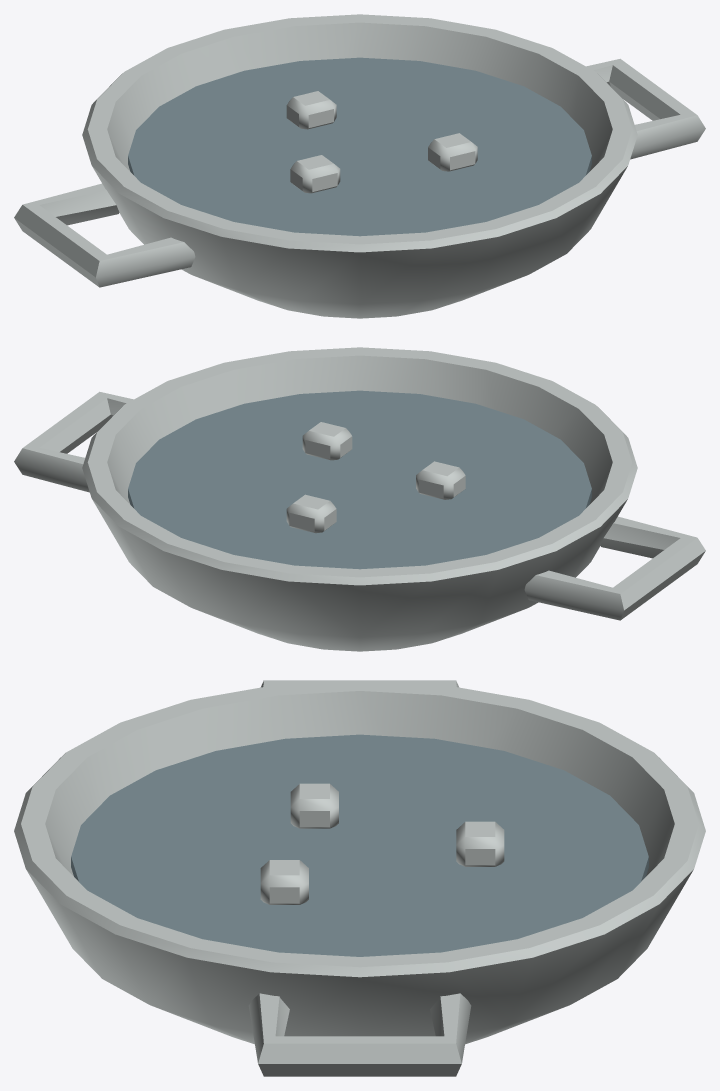
File: soup-bowl.glb
The picture shows the model from 3 angles, top to bottom: view 1: azimuth 30°, elevation 25°; view 2: azimuth 150°, elevation 25°; view 3: azimuth 270°, elevation 25°; orthographic projection. The views are drawn at different scales.
Visible parts, largest first — view 1: bowl, soup_surface, bowl_handle, bowl_handle.001, crouton.002, crouton, crouton.001; view 2: bowl, soup_surface, bowl_handle, bowl_handle.001, crouton.001, crouton.002, crouton; view 3: bowl, soup_surface, bowl_handle.001, crouton.002, crouton, crouton.001, bowl_handle.
Boxes of the visible parts, bbox=[...] form: bowl: bbox=[82, 14, 637, 318]; soup_surface: bbox=[128, 57, 591, 236]; bowl_handle: bbox=[14, 183, 195, 287]; bowl_handle.001: bbox=[586, 58, 705, 159]; crouton.002: bbox=[286, 91, 336, 129]; crouton: bbox=[290, 155, 340, 193]; crouton.001: bbox=[428, 133, 477, 171]; bowl: bbox=[82, 347, 637, 651]; soup_surface: bbox=[128, 390, 591, 569]; bowl_handle: bbox=[524, 516, 705, 620]; bowl_handle.001: bbox=[14, 391, 133, 492]; crouton.001: bbox=[302, 422, 352, 460]; crouton.002: bbox=[286, 494, 336, 533]; crouton: bbox=[416, 461, 465, 499]; bowl: bbox=[14, 680, 705, 1044]; soup_surface: bbox=[71, 734, 648, 956]; bowl_handle.001: bbox=[248, 993, 471, 1076]; crouton.002: bbox=[456, 821, 504, 866]; crouton: bbox=[290, 783, 338, 828]; crouton.001: bbox=[260, 860, 308, 904]; bowl_handle: bbox=[260, 680, 459, 687].
Size of the model in its own units: 0.2916 by 0.065 by 0.23.
